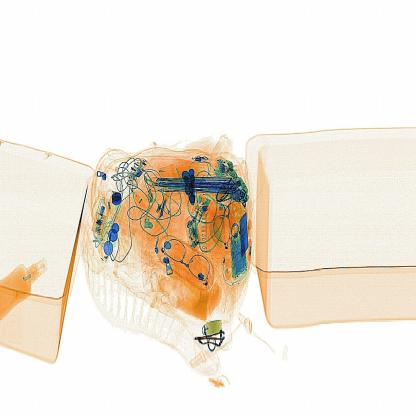pliers: (154, 194, 176, 230)
